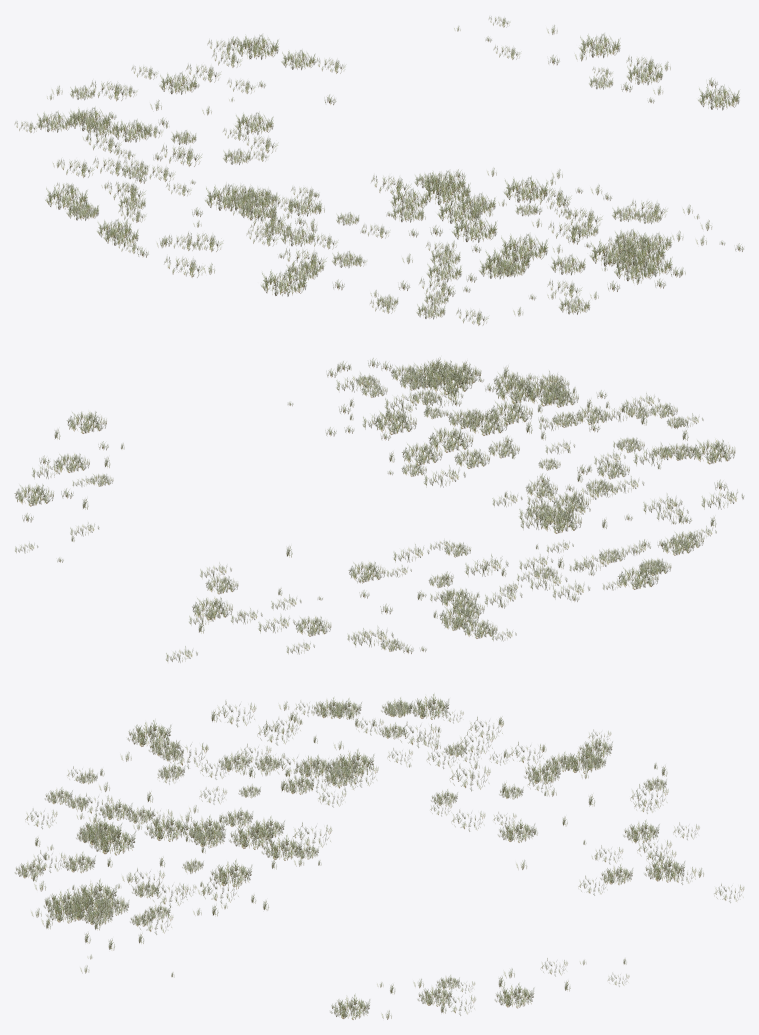
The model's file is grass1.glb.
The picture shows the model from 3 angles, top to bottom: view 1: azimuth 30°, elevation 25°; view 2: azimuth 150°, elevation 25°; view 3: azimuth 270°, elevation 25°; orthographic projection. The views are drawn at different scales.
Parts seen in each view (by area): view 1: _1288_Var1_LOD0.017, _1288_Var1_LOD0.020, _1288_Var1_LOD0.059, _1288_Var1_LOD0.026, _1288_Var1_LOD0.064, _1288_Var1_LOD0.039, _1288_Var1_LOD0.051, _1288_Var1_LOD0.006, _1288_Var1_LOD0.019, _1288_Var1_LOD0.028, _1288_Var1_LOD0.015, _1288_Var1_LOD0.058 (+5 smaller); view 2: _1288_Var1_LOD0.017, _1288_Var1_LOD0.020, _1288_Var1_LOD0.026, _1288_Var1_LOD0.059, _1288_Var1_LOD0.064, _1288_Var1_LOD0.051, _1288_Var1_LOD0.039, _1288_Var1_LOD0.006, _1288_Var1_LOD0.019, _1288_Var1_LOD0.028, _1288_Var1_LOD0.041, _1288_Var1_LOD0.058 (+2 smaller); view 3: _1288_Var1_LOD0.017, _1288_Var1_LOD0.020, _1288_Var1_LOD0.026, _1288_Var1_LOD0.059, _1288_Var1_LOD0.064, _1288_Var1_LOD0.039, _1288_Var1_LOD0.019, _1288_Var1_LOD0.028, _1288_Var1_LOD0.006, _1288_Var1_LOD0.041, _1288_Var1_LOD0.015, _1288_Var1_LOD0.051 (+2 smaller).
Part boxes in pixels (box(x1,y1,x2,y2)): _1288_Var1_LOD0.017: box(500, 234, 548, 262); _1288_Var1_LOD0.020: box(423, 177, 470, 205); _1288_Var1_LOD0.059: box(590, 239, 636, 266); _1288_Var1_LOD0.026: box(261, 269, 306, 296); _1288_Var1_LOD0.064: box(452, 215, 497, 242); _1288_Var1_LOD0.039: box(504, 176, 548, 203); _1288_Var1_LOD0.051: box(485, 248, 530, 274); _1288_Var1_LOD0.006: box(205, 185, 249, 211); _1288_Var1_LOD0.019: box(236, 34, 278, 59); _1288_Var1_LOD0.028: box(45, 185, 87, 209); _1288_Var1_LOD0.015: box(619, 238, 665, 265); _1288_Var1_LOD0.058: box(698, 85, 739, 110); _1288_Var1_LOD0.017: box(495, 378, 540, 403); _1288_Var1_LOD0.020: box(428, 428, 472, 452); _1288_Var1_LOD0.026: box(691, 440, 735, 464); _1288_Var1_LOD0.059: box(428, 369, 472, 394); _1288_Var1_LOD0.064: box(489, 401, 532, 424); _1288_Var1_LOD0.051: box(526, 382, 568, 406); _1288_Var1_LOD0.039: box(374, 411, 416, 434); _1288_Var1_LOD0.006: box(539, 509, 581, 533); _1288_Var1_LOD0.019: box(192, 597, 232, 620); _1288_Var1_LOD0.028: box(618, 567, 658, 589); _1288_Var1_LOD0.041: box(402, 443, 442, 465); _1288_Var1_LOD0.058: box(67, 411, 106, 433); _1288_Var1_LOD0.017: box(90, 826, 135, 855); _1288_Var1_LOD0.020: box(229, 820, 273, 849); _1288_Var1_LOD0.026: box(127, 720, 170, 747); _1288_Var1_LOD0.059: box(72, 879, 116, 908); _1288_Var1_LOD0.064: box(145, 814, 187, 841); _1288_Var1_LOD0.039: box(209, 859, 251, 886); _1288_Var1_LOD0.019: box(644, 856, 684, 882); _1288_Var1_LOD0.028: box(409, 694, 449, 719); _1288_Var1_LOD0.006: box(332, 749, 373, 776); _1288_Var1_LOD0.041: box(262, 835, 301, 860); _1288_Var1_LOD0.015: box(64, 892, 108, 921); _1288_Var1_LOD0.051: box(78, 818, 121, 845).
Size of the model in its own units: 35.53 by 3.26 by 36.39.
1 material, 1 textured.
